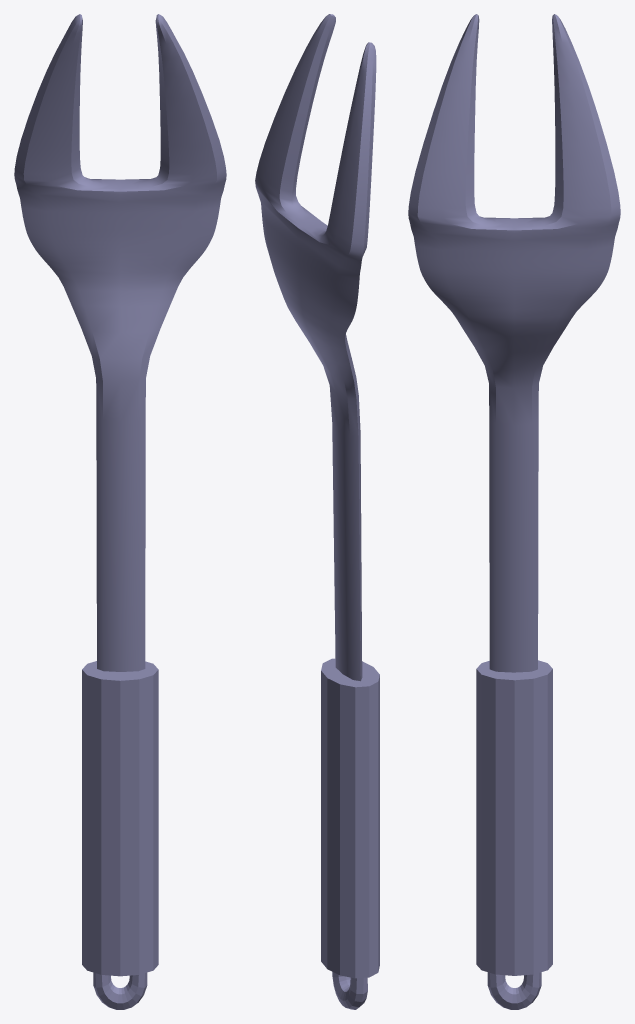
Rendered from GarfoTrinchante.fbx.
3 views of the same model, side by side, from view 1: azimuth 90°, elevation 25°; view 2: azimuth 210°, elevation 25°; view 3: azimuth 270°, elevation 25° (orthographic).
Parts seen in each view (by area): view 1: Cylinder.002; view 2: Cylinder.002; view 3: Cylinder.002.
Part boxes in pixels (x1=…): Cylinder.002: x1=14, y1=14, x2=226, y2=1009; Cylinder.002: x1=255, y1=14, x2=379, y2=1009; Cylinder.002: x1=408, y1=14, x2=620, y2=1009.
Size of the model in its own units: 68.69 by 848 by 164.
